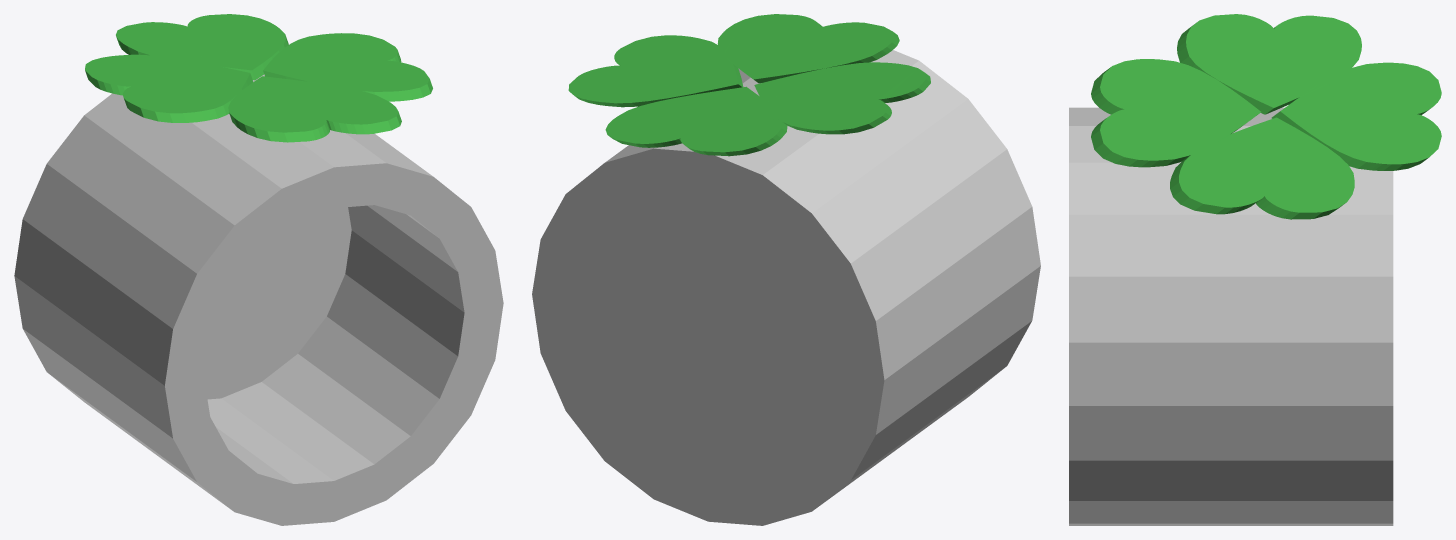
File: tinker.obj
3 renders of one model, left to right at view 1: azimuth 30°, elevation 25°; view 2: azimuth 150°, elevation 25°; view 3: azimuth 270°, elevation 25°, orthographic. The views are drawn at different scales.
Parts seen in each view (by area): view 1: group_0_16089887, group_0_4634441; view 2: group_0_16089887, group_0_4634441; view 3: group_0_16089887, group_0_4634441.
Part boxes in pixels (box(x1,y1,x2,y2)): group_0_16089887: box(14, 74, 503, 525); group_0_4634441: box(85, 14, 432, 142); group_0_16089887: box(532, 50, 1040, 525); group_0_4634441: box(568, 14, 930, 156); group_0_16089887: box(1069, 107, 1393, 525); group_0_4634441: box(1091, 14, 1441, 219).
Bounding box in the file's own units: 26 × 29 × 23.
